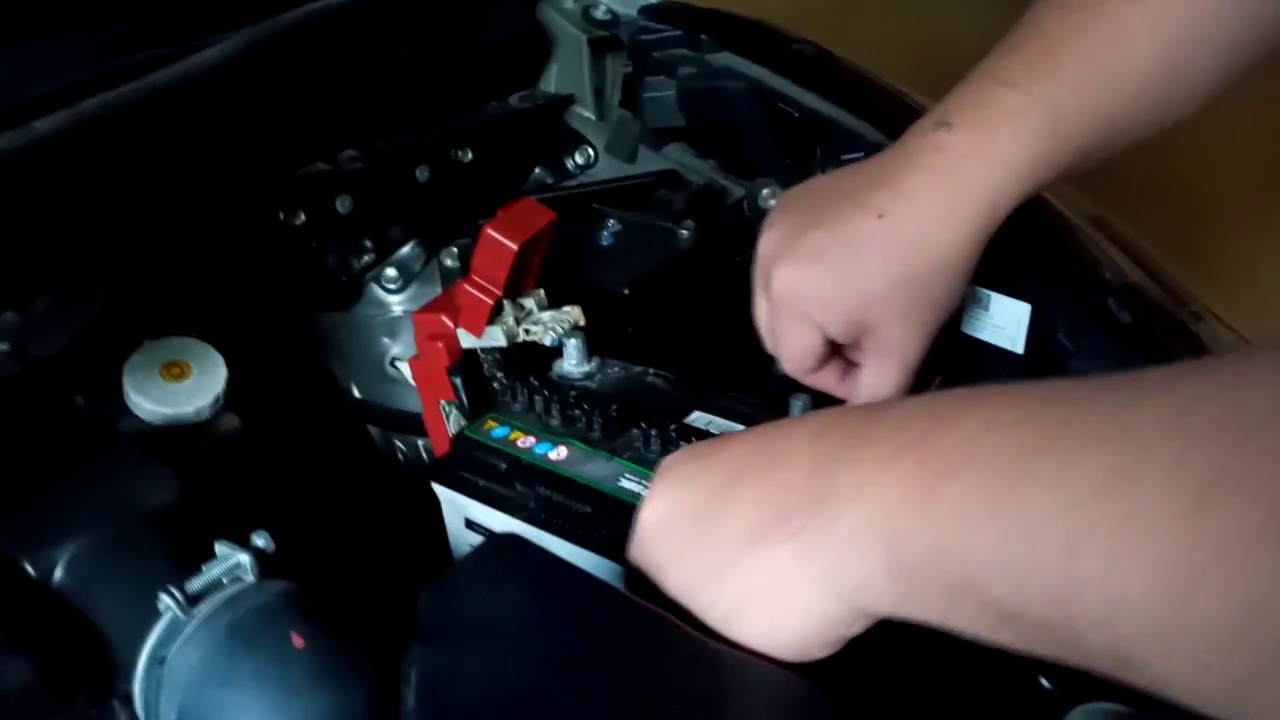battery: (402, 331, 817, 535)
neg_touched: (745, 307, 889, 510)
pos_disconnected: (383, 243, 621, 412)
